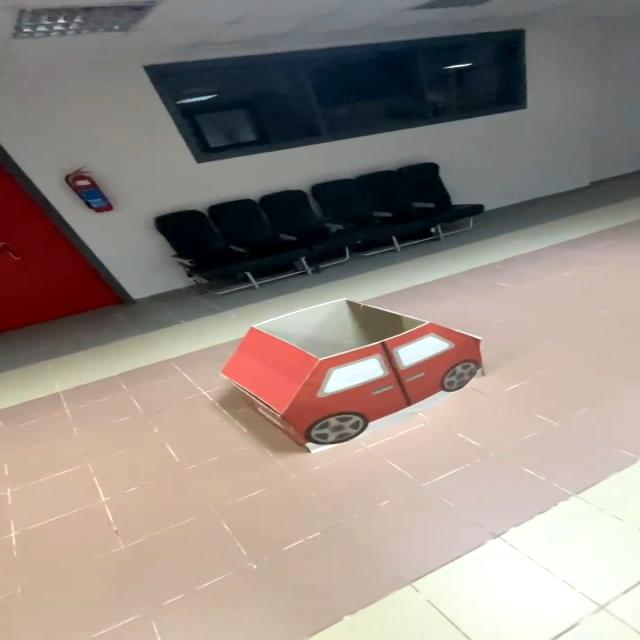red_car: (185, 291, 513, 475)
